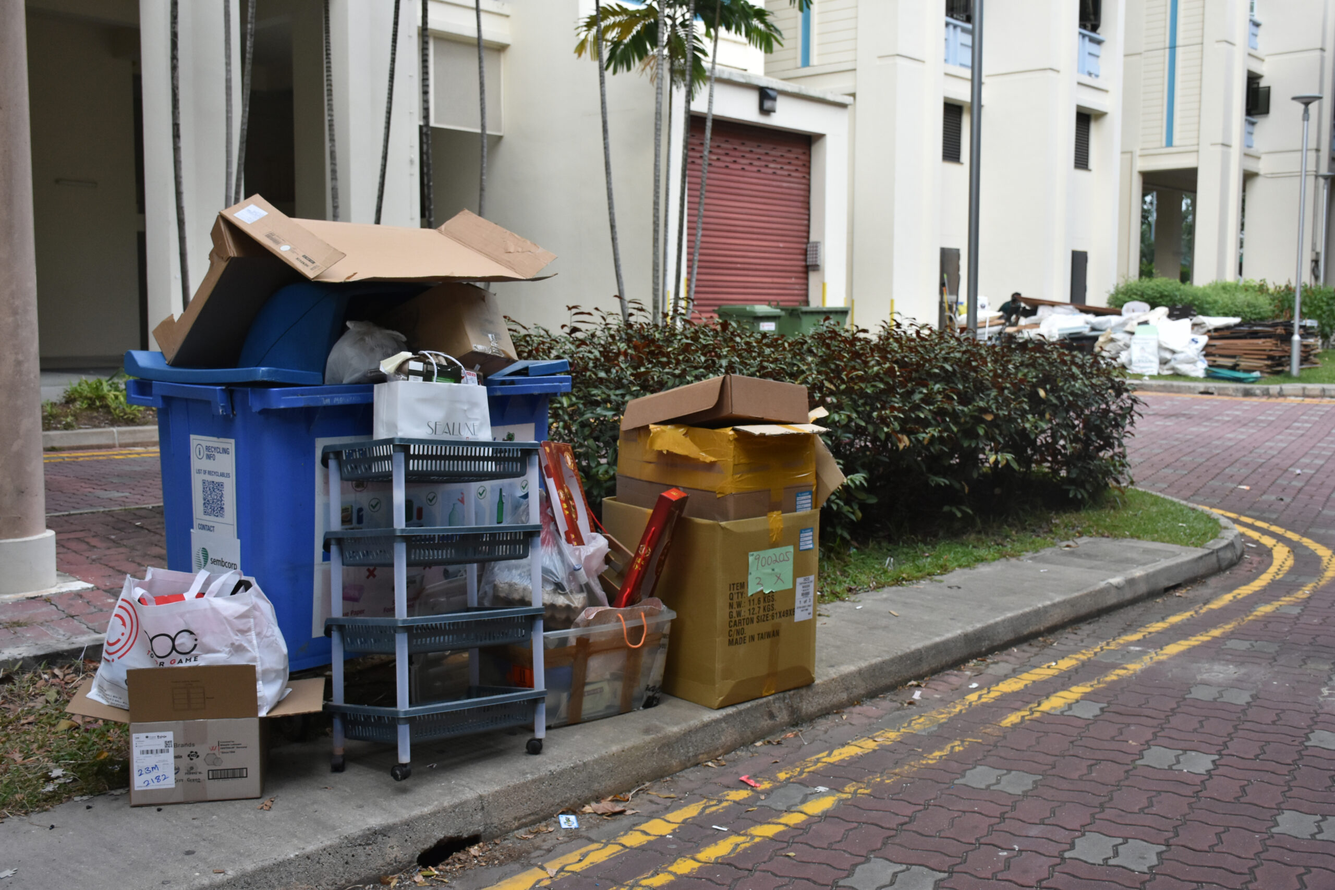bin_full: (124, 195, 571, 670)
bulk_waste: (297, 437, 543, 780), (67, 665, 323, 806), (616, 374, 842, 520), (657, 510, 819, 708), (540, 495, 675, 727), (602, 498, 651, 548), (482, 645, 532, 682), (479, 569, 517, 604)
normal_waste: (92, 570, 287, 715)
